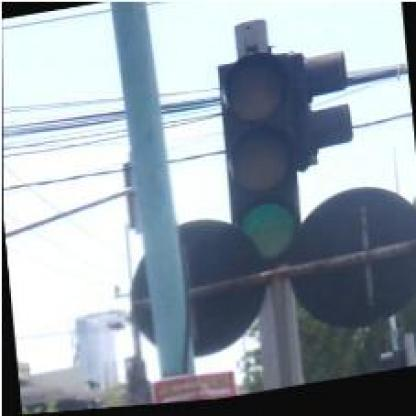green: (219, 54, 309, 272)
